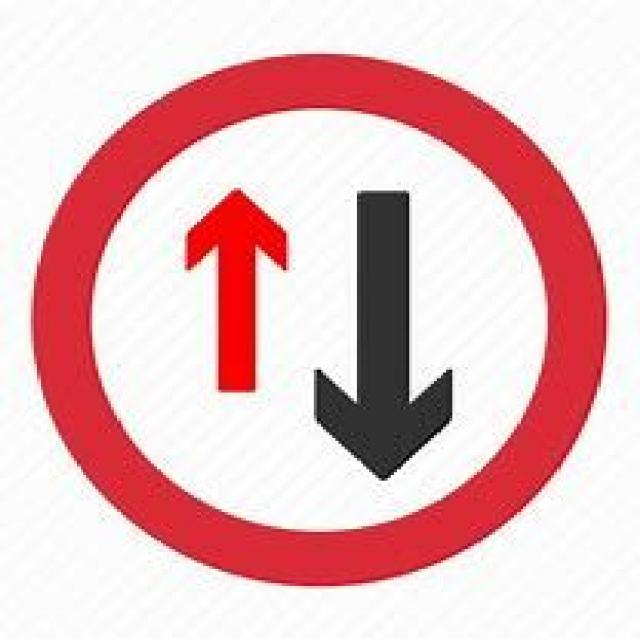PRIORITY_FOR_ONCOMING_VEHICLES: (28, 48, 606, 586)
